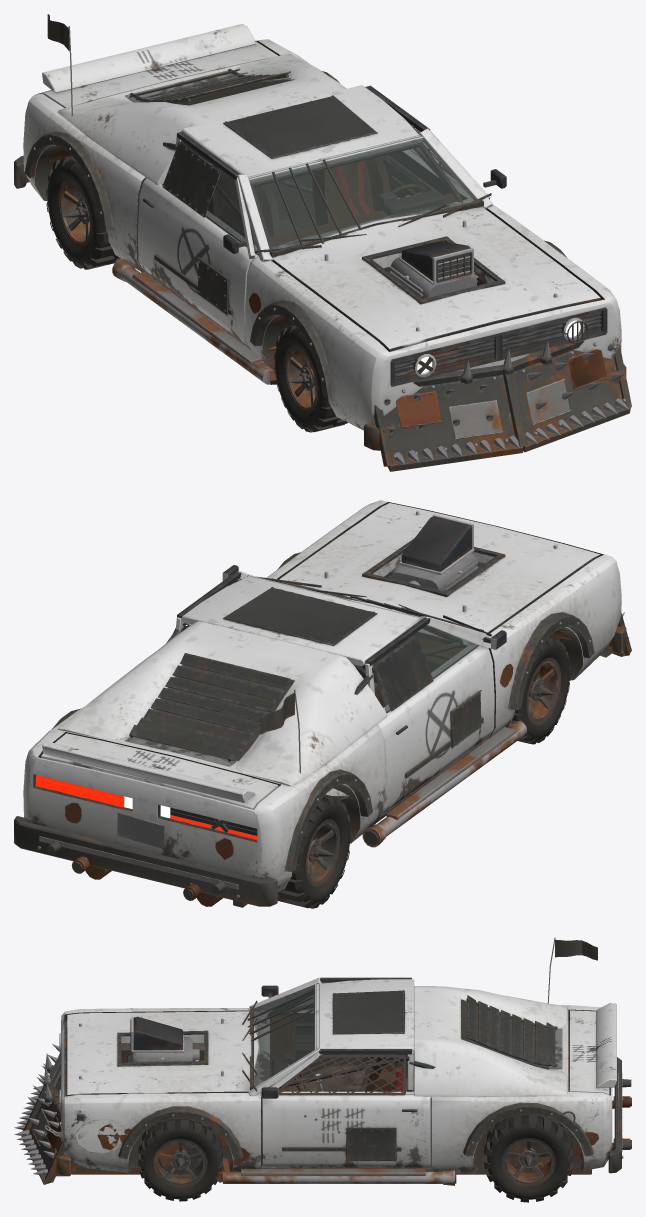
The model's file is e_muscle.glb.
3 views of the same model, one above another, from view 1: azimuth 30°, elevation 25°; view 2: azimuth 150°, elevation 25°; view 3: azimuth 270°, elevation 25° (orthographic). The views are drawn at different scales.
Visible parts, largest first — view 1: body_mesh, panel_hood, panel_bumper_F, panel_door_R, panel_trunk, wheel_RR_tire, wheel_FR_tire, wheel_FR_rim, wheel_RR_rim, panel_door_L; view 2: body_mesh, panel_hood, panel_door_R, panel_trunk, panel_bumper_R, wheel_RR_tire, wheel_FR_tire, wheel_FR_rim, wheel_RR_rim, panel_door_L, panel_bumper_F; view 3: body_mesh, panel_door_L, panel_hood, wheel_RL_tire, panel_bumper_F, panel_trunk, wheel_FL_tire, wheel_FL_rim, wheel_RL_rim, panel_bumper_R, panel_door_R.
Boxes of the visible parts, x1,y1,x2,y2 form: body_mesh: (23, 14, 621, 430); panel_hood: (272, 207, 601, 351); panel_bumper_F: (364, 337, 631, 471); panel_door_R: (138, 131, 258, 346); panel_trunk: (41, 24, 277, 107); wheel_RR_tire: (46, 155, 120, 269); wheel_FR_tire: (274, 325, 347, 432); wheel_FR_rim: (283, 345, 317, 413); wheel_RR_rim: (57, 180, 91, 247); panel_door_L: (365, 85, 506, 199); body_mesh: (23, 500, 621, 907); panel_hood: (279, 503, 601, 633); panel_door_R: (365, 617, 506, 814); panel_trunk: (41, 733, 278, 848); panel_bumper_R: (14, 816, 277, 906); wheel_RR_tire: (277, 794, 351, 908); wheel_FR_tire: (512, 637, 570, 744); wheel_FR_rim: (526, 657, 560, 725); wheel_RR_rim: (305, 819, 339, 886); panel_door_L: (173, 565, 241, 633); panel_bumper_F: (600, 612, 631, 657); body_mesh: (53, 937, 631, 1185); panel_door_L: (260, 1049, 430, 1167); panel_hood: (66, 1011, 251, 1096); wheel_RL_tire: (484, 1114, 573, 1202); panel_bumper_F: (14, 1044, 79, 1184); panel_trunk: (570, 1003, 618, 1105); wheel_FL_tire: (138, 1119, 222, 1201); wheel_FL_rim: (153, 1139, 207, 1187); wheel_RL_rim: (502, 1138, 555, 1186); panel_bumper_R: (608, 1057, 631, 1173); panel_door_R: (261, 977, 411, 1010).
Bounding box in the file's own units: 2.07 × 1.62 × 5.18.
Materials: 19 (16 with a texture image).
